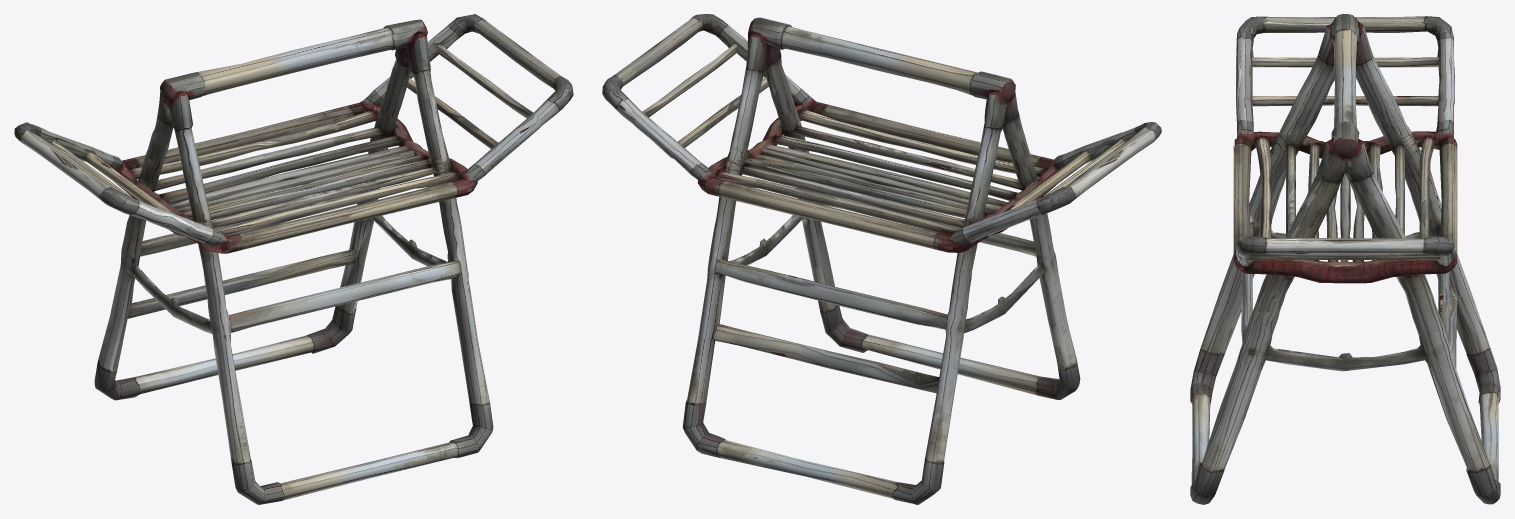
The model's file is drying-rack-2.glb.
The picture shows the model from 3 angles, left to right: view 1: azimuth 30°, elevation 25°; view 2: azimuth 150°, elevation 25°; view 3: azimuth 270°, elevation 25°; orthographic projection.
Bounding box in the file's own units: 1.91 × 1.47 × 1.09.
Materials: 1 (1 with a texture image).
